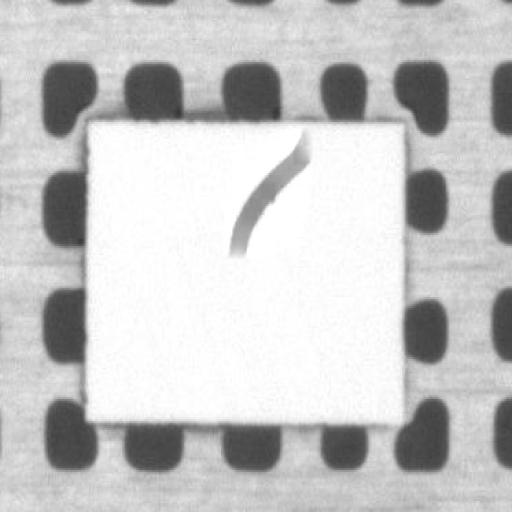DIE_INK: (288, 92, 419, 196)
